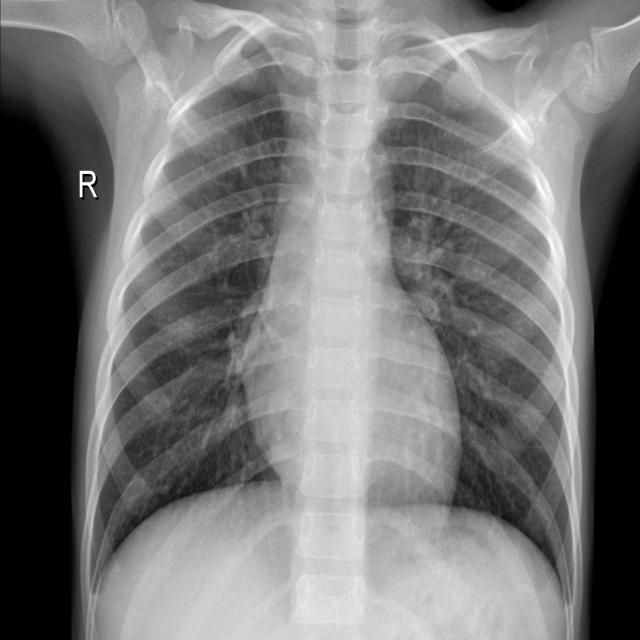no-pneumonia: (83, 13, 330, 623), (369, 22, 582, 636)
